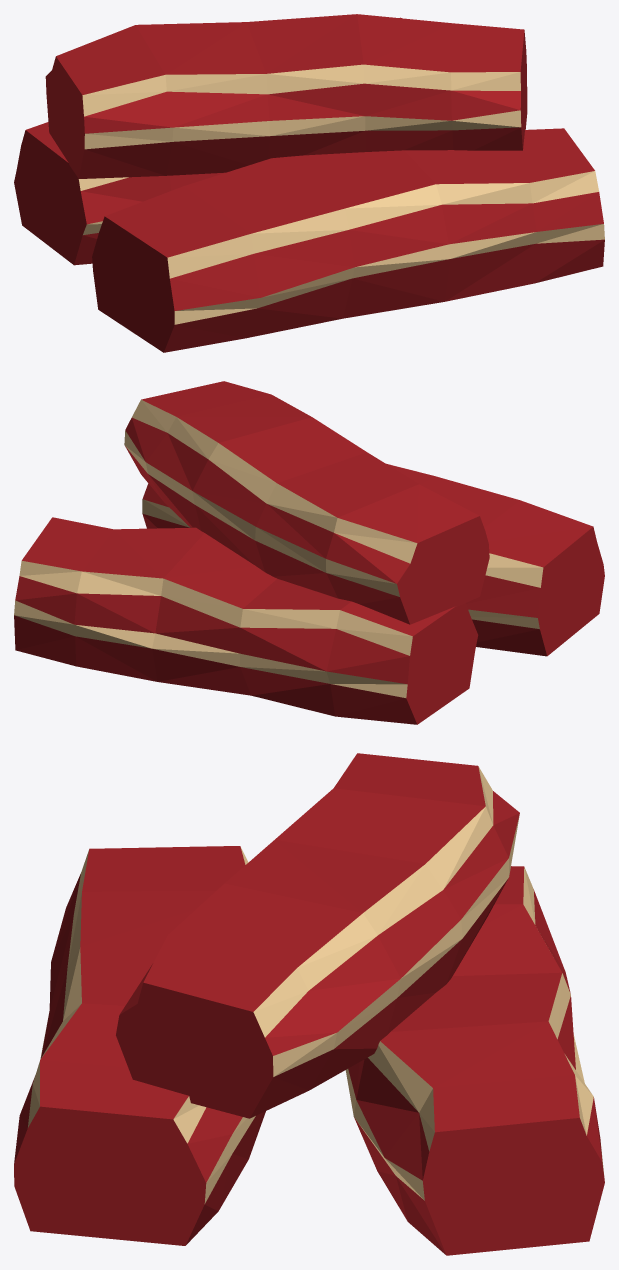
The model's file is SM_Cook_MeatSlabPile_01.fbx.
The picture shows the model from 3 angles, top to bottom: view 1: azimuth 30°, elevation 25°; view 2: azimuth 150°, elevation 25°; view 3: azimuth 270°, elevation 25°; orthographic projection. The views are drawn at different scales.
Parts seen in each view (by area): view 1: SM_Cook_MeatSlabPile_01; view 2: SM_Cook_MeatSlabPile_01; view 3: SM_Cook_MeatSlabPile_01.
Part boxes in pixels (x1,y1,x2,y2): SM_Cook_MeatSlabPile_01: [14, 14, 604, 352]; SM_Cook_MeatSlabPile_01: [14, 381, 604, 724]; SM_Cook_MeatSlabPile_01: [14, 753, 604, 1255].
Size of the model in its own units: 0.2327 by 0.0947 by 0.1998.
1 material, 1 textured.
